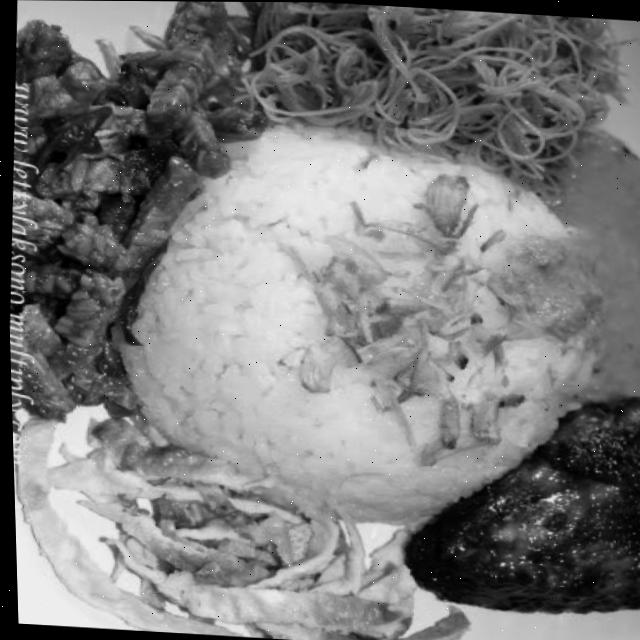米饭主食: (10, 0, 640, 625)
